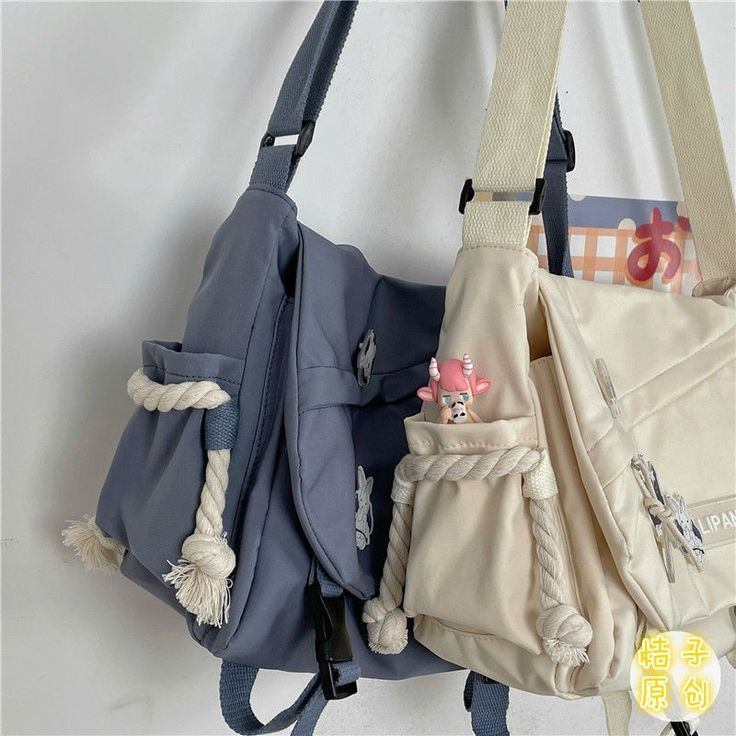nylon: (94, 1, 736, 736)
